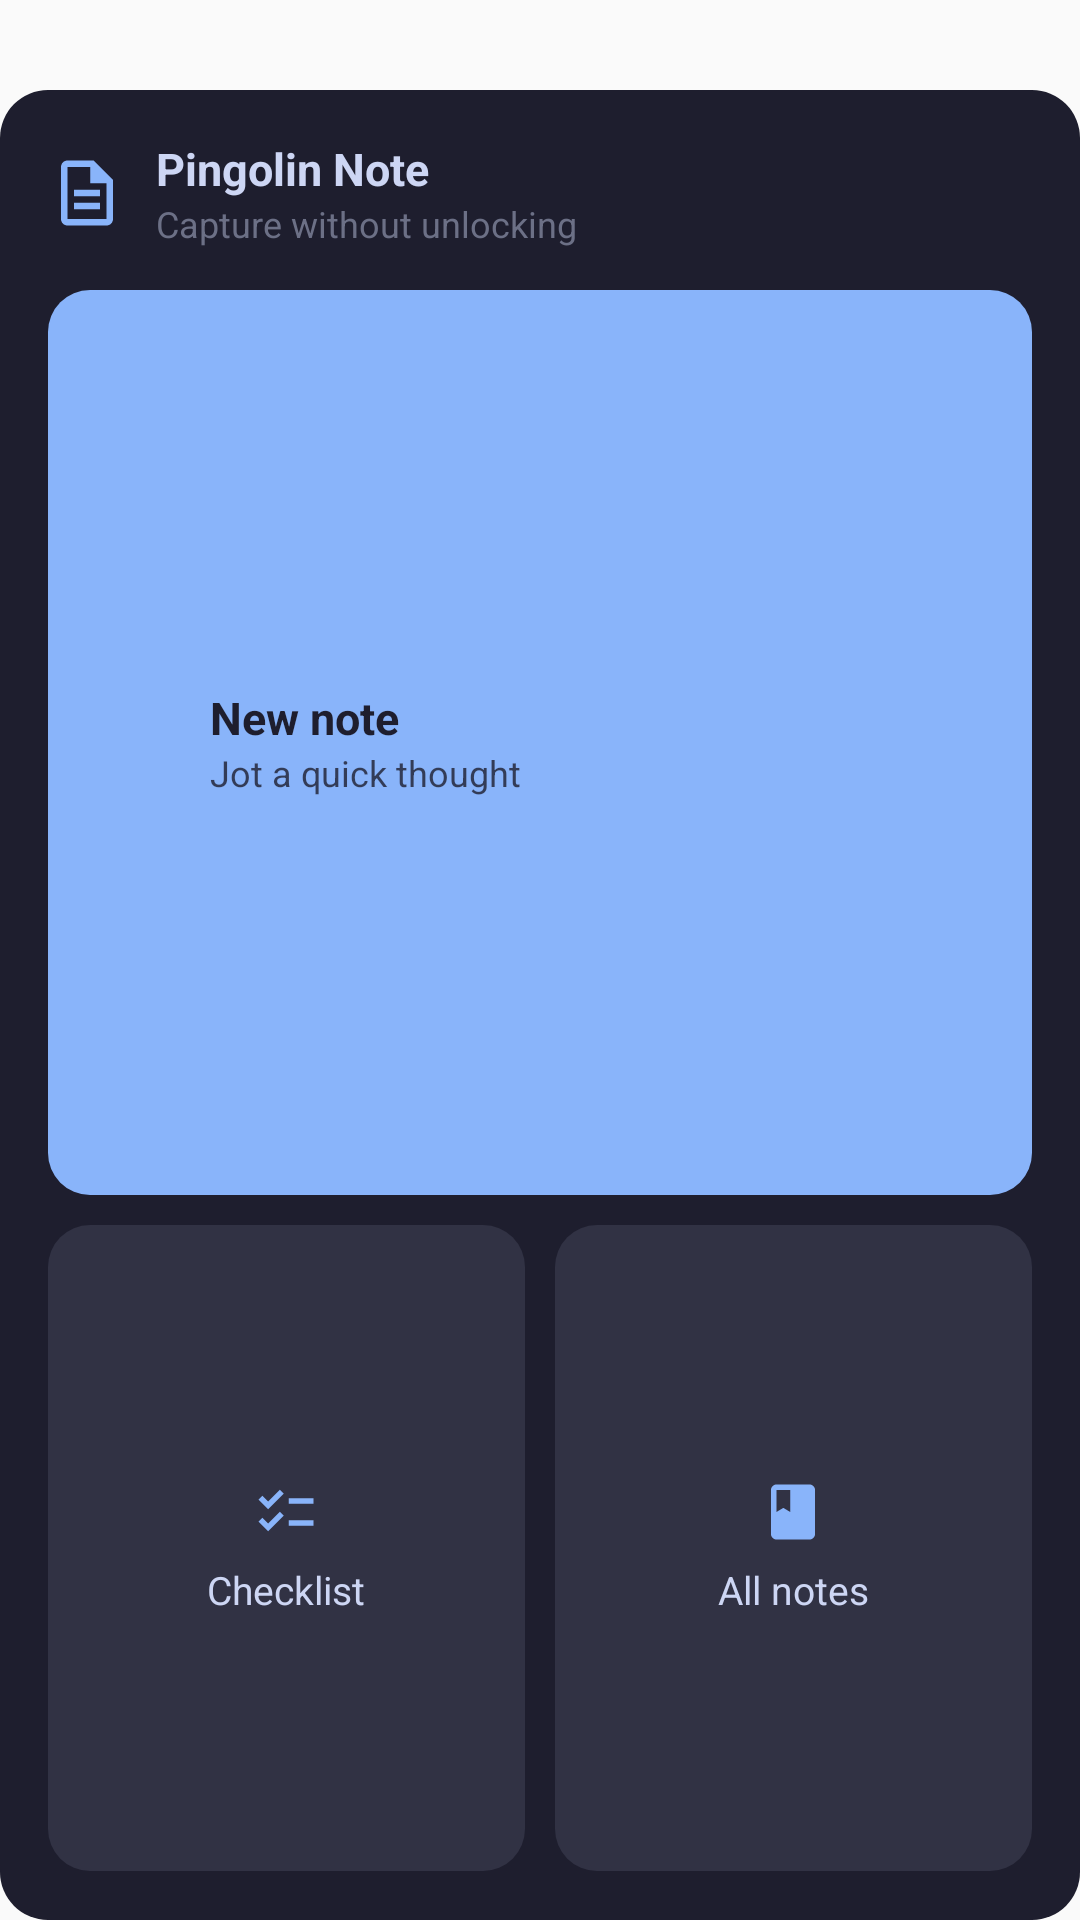

Icon click points for this 1080 × 1920 phone screenshot, format (x=x, y=y):
notebook: (x=793, y=1512)
